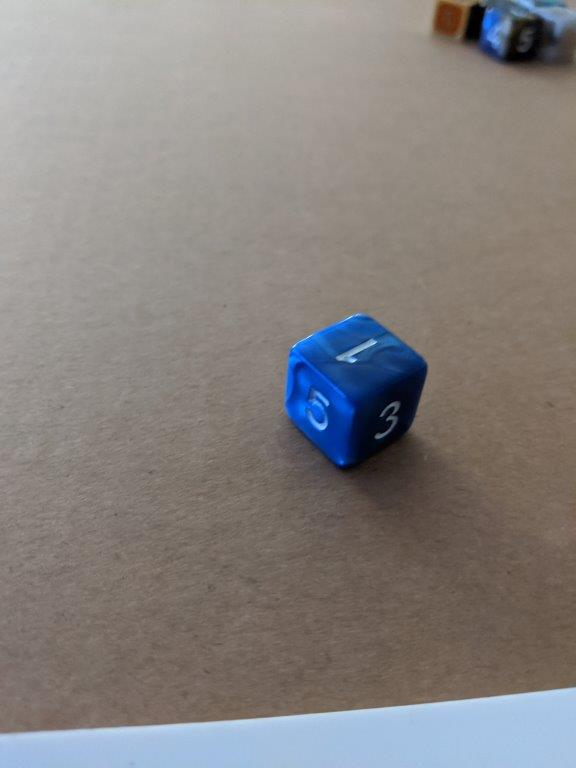d6-1: (284, 311, 430, 468)
